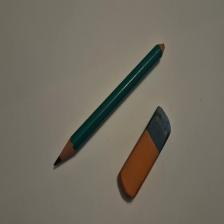eraser: (118, 106, 172, 199)
pencil: (54, 44, 166, 167)
